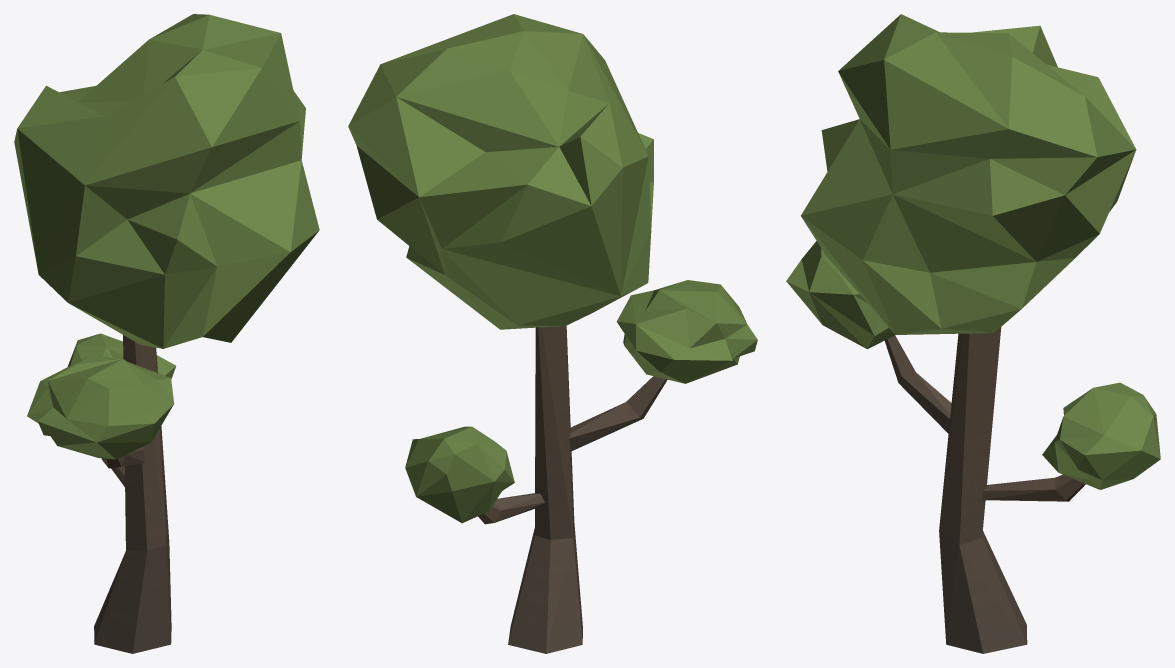
File: SM_Tree_3.FBX
3 renders of one model, left to right at view 1: azimuth 30°, elevation 25°; view 2: azimuth 150°, elevation 25°; view 3: azimuth 270°, elevation 25°, orthographic. The views are drawn at different scales.
Visible parts, largest first — view 1: SM_Tree_3; view 2: SM_Tree_3; view 3: SM_Tree_3.
Part boxes in pixels (x1,y1,x2,y2): SM_Tree_3: (14,14,319,653); SM_Tree_3: (348,14,757,653); SM_Tree_3: (786,14,1160,653).
Size of what is drawn, in the model's own units: 509 by 469 by 865.
